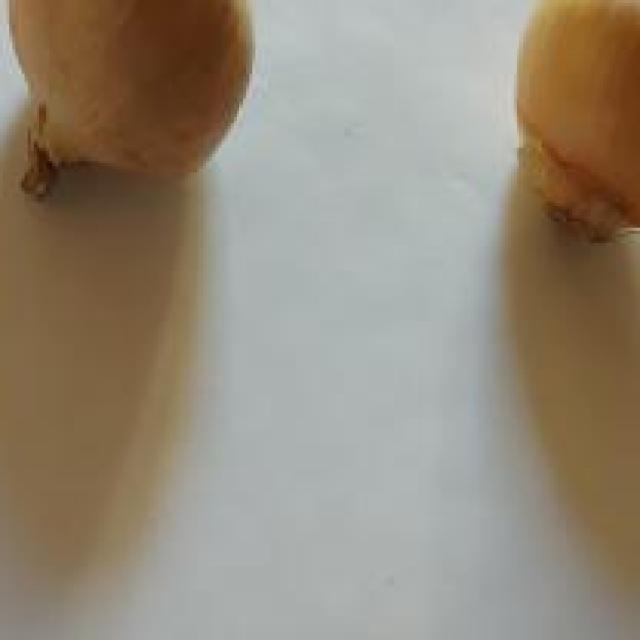onion: (3, 0, 259, 200), (511, 0, 640, 249)
